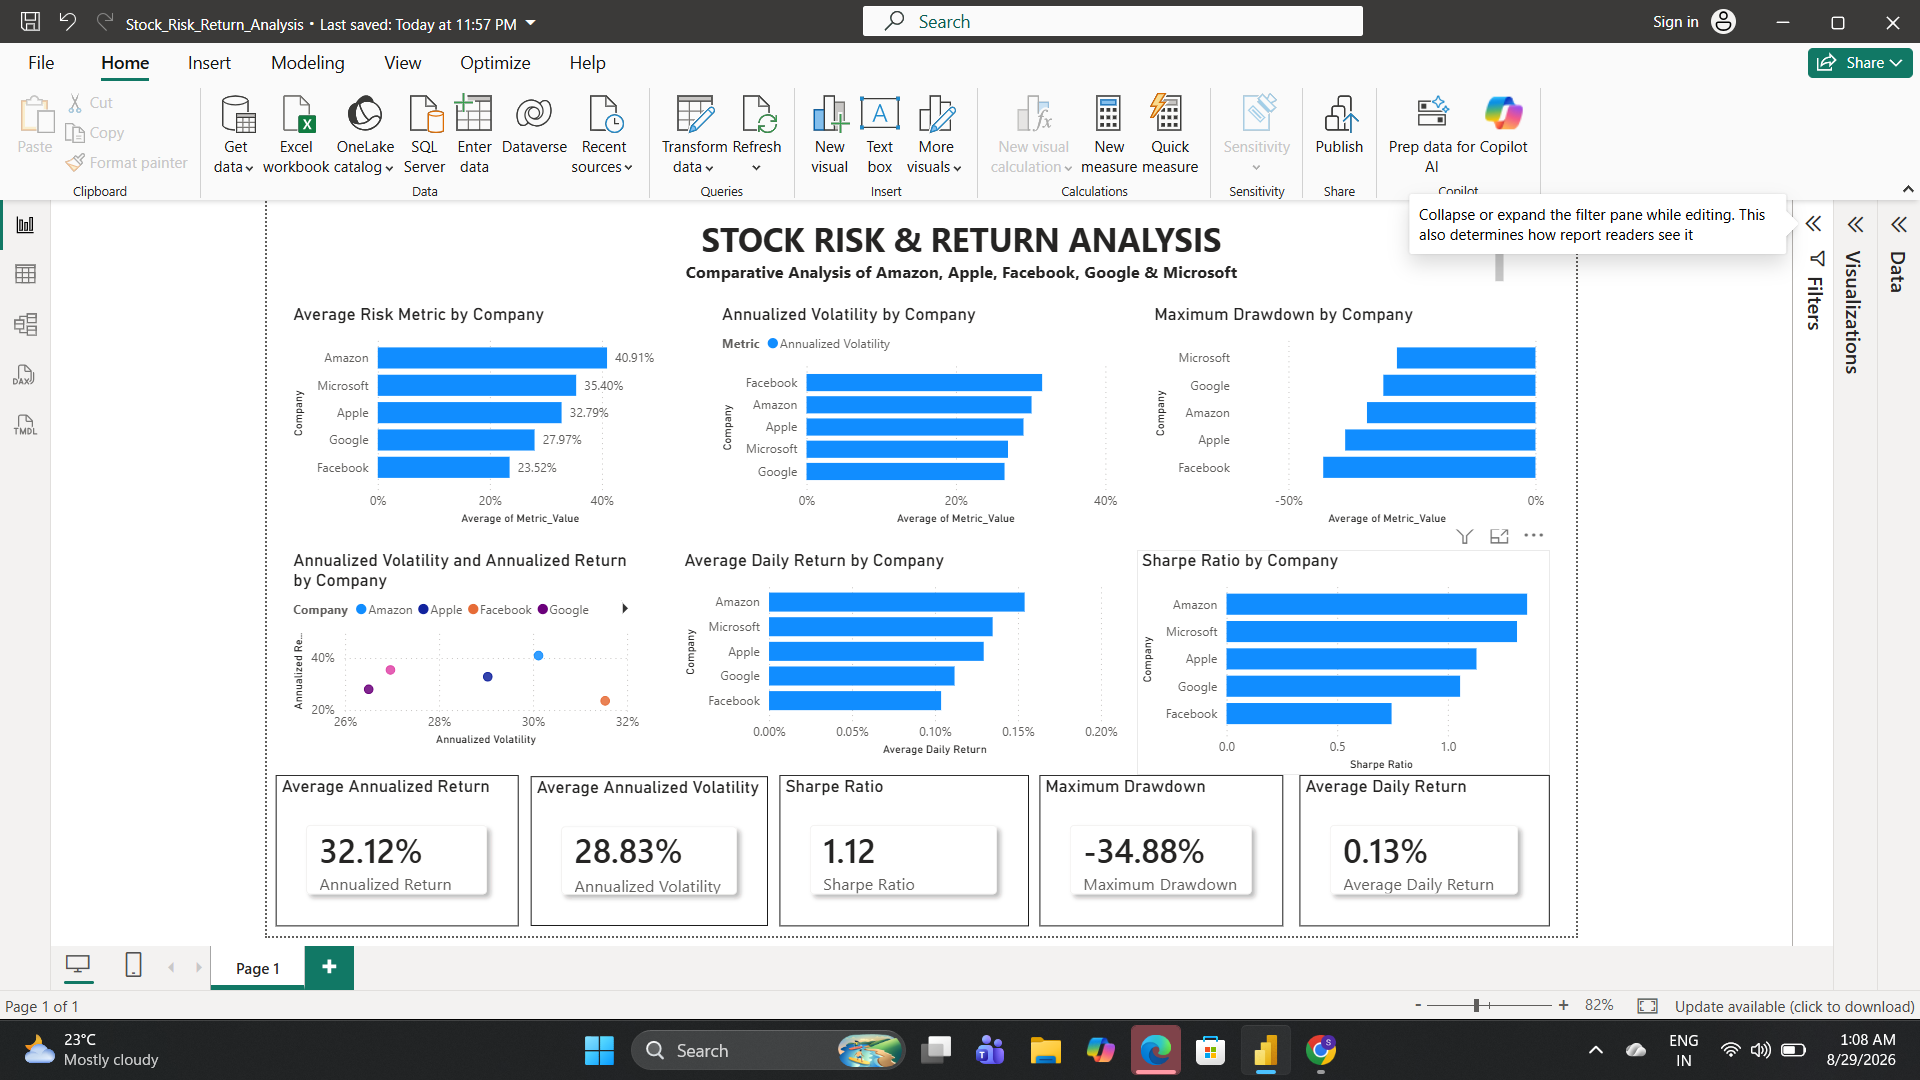

The page's visual inventory and layout, read from the dashboard file:
{"tool":"powerbi","page":{"name":"Page 1","canvas":[1280,720],"ordinal":0},"visuals":[{"type":"clusteredBarChart","title":"Average Risk Metric by Company","fields":{"Category":["Risk_Return_Analysis.Company"],"Y":["Avg(Risk_Return_Analysis.Metric_Value)"]},"box":[20.2,101,383.7,220.8],"z":0},{"type":"clusteredBarChart","title":"Annualized Volatility by Company","fields":{"Category":["Risk_Return_Analysis.Company"],"Y":["Avg(Risk_Return_Analysis.Metric_Value)"],"Series":["Risk_Return_Analysis.Metric"]},"box":[440.2,101,397.1,220.8],"z":1000},{"type":"clusteredBarChart","title":"Sharpe Ratio by Company","fields":{"Category":["Risk_Return_Analysis.Company"],"Y":["Combined_Data.Sharpe Ratio"]},"box":[850.8,341.9,403.9,220.8],"z":2000},{"type":"clusteredBarChart","title":"Maximum Drawdown by Company","fields":{"Category":["Risk_Return_Analysis.Company"],"Y":["Avg(Risk_Return_Analysis.Metric_Value)"]},"box":[862.9,101,391.8,220.8],"z":3000},{"type":"scatterChart","fields":{"Series":["Risk_Return_Analysis.Company"],"Y":["Risk_Return_Analysis.Annualized Return"],"X":["Risk_Return_Analysis.Measure 2"]},"box":[20.2,341.9,348.7,196.6],"z":4000},{"type":"clusteredBarChart","fields":{"Category":["Risk_Return_Analysis.Company"],"Y":["Risk_Return_Analysis.Average Daily Return"]},"box":[403.9,341.9,433.5,206],"z":5000},{"type":"cardVisual","title":"Average Annualized Return","fields":{"Data":["Risk_Return_Analysis.Annualized Return"]},"box":[8.6,562.5,237.2,148],"z":6000},{"type":"cardVisual","title":"Average Annualized Volatility","fields":{"Data":["Risk_Return_Analysis.Annualized Volatility"]},"box":[258,563.7,232.3,146.7],"z":7000},{"type":"cardVisual","title":"Sharpe Ratio","fields":{"Data":["Combined_Data.Sharpe Ratio"]},"box":[500.8,562.7,243.7,148.1],"z":8000},{"type":"cardVisual","title":"Maximum Drawdown","fields":{"Data":["Risk_Return_Analysis.Maximum Drawdown"]},"box":[755.2,562.7,238.3,148.1],"z":9000},{"type":"cardVisual","title":"Average Daily Return","fields":{"Data":["Risk_Return_Analysis.Average Daily Return"]},"box":[1010.1,562.5,244.6,148],"z":10000},{"type":"textbox","box":[152.9,12.2,1061.4,73.4],"z":11000}]}

Visuals, with their boxes on the page's 1280x720 design canvas (x1, y1, x2, y2). These are canvas units, not pixel positions in the 1920x1080 screenshot, which may show the page scaled, cropped or inside an application window:
"Average Risk Metric by Company" clusteredBarChart: x1=20, y1=101, x2=404, y2=322
"Annualized Volatility by Company" clusteredBarChart: x1=440, y1=101, x2=837, y2=322
"Sharpe Ratio by Company" clusteredBarChart: x1=851, y1=342, x2=1255, y2=563
"Maximum Drawdown by Company" clusteredBarChart: x1=863, y1=101, x2=1255, y2=322
scatterChart - Risk_Return_Analysis.Company x Risk_Return_Analysis.Annualized Return: x1=20, y1=342, x2=369, y2=538
clusteredBarChart - Risk_Return_Analysis.Company x Risk_Return_Analysis.Average Daily Return: x1=404, y1=342, x2=837, y2=548
"Average Annualized Return" cardVisual: x1=9, y1=562, x2=246, y2=710
"Average Annualized Volatility" cardVisual: x1=258, y1=564, x2=490, y2=710
"Sharpe Ratio" cardVisual: x1=501, y1=563, x2=744, y2=711
"Maximum Drawdown" cardVisual: x1=755, y1=563, x2=994, y2=711
"Average Daily Return" cardVisual: x1=1010, y1=562, x2=1255, y2=710
textbox: x1=153, y1=12, x2=1214, y2=86
